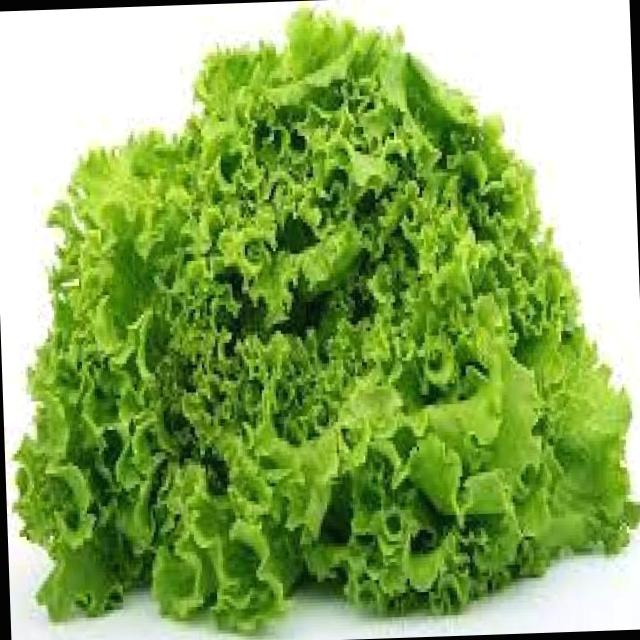Lettuce-Ready-to-Harvest: (17, 11, 629, 628)
